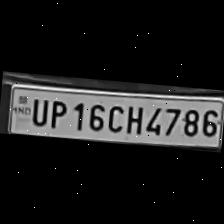1: (66, 98, 87, 132)
4: (141, 102, 164, 137)
6: (84, 100, 107, 134), (197, 106, 220, 140)
7: (160, 104, 180, 138)
8: (180, 105, 202, 139)
C: (104, 101, 126, 135)
H: (123, 102, 144, 136)
P: (45, 96, 68, 130)
U: (26, 94, 50, 127)
